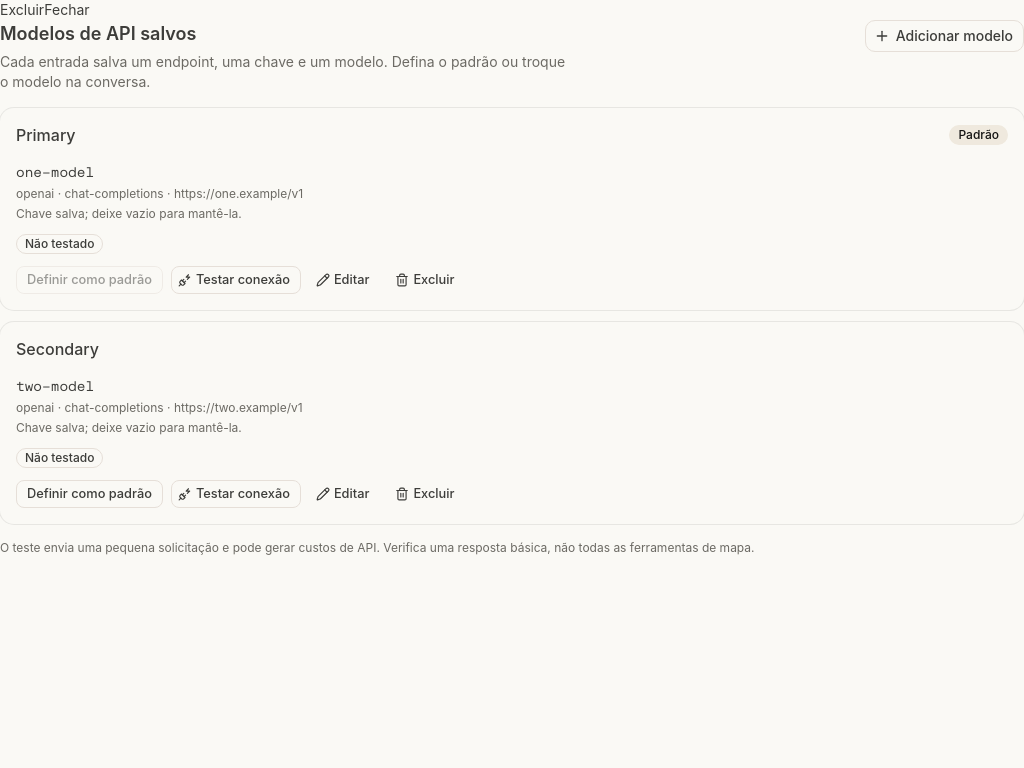
Test case: API profile settings › labels the delete-dialog close action in pt-BR
The image size is (1024, 768).
Click the button "Excluir" below "https://two.example/v1" at [427, 494], box top-left (388, 480), bottom-right (466, 508)
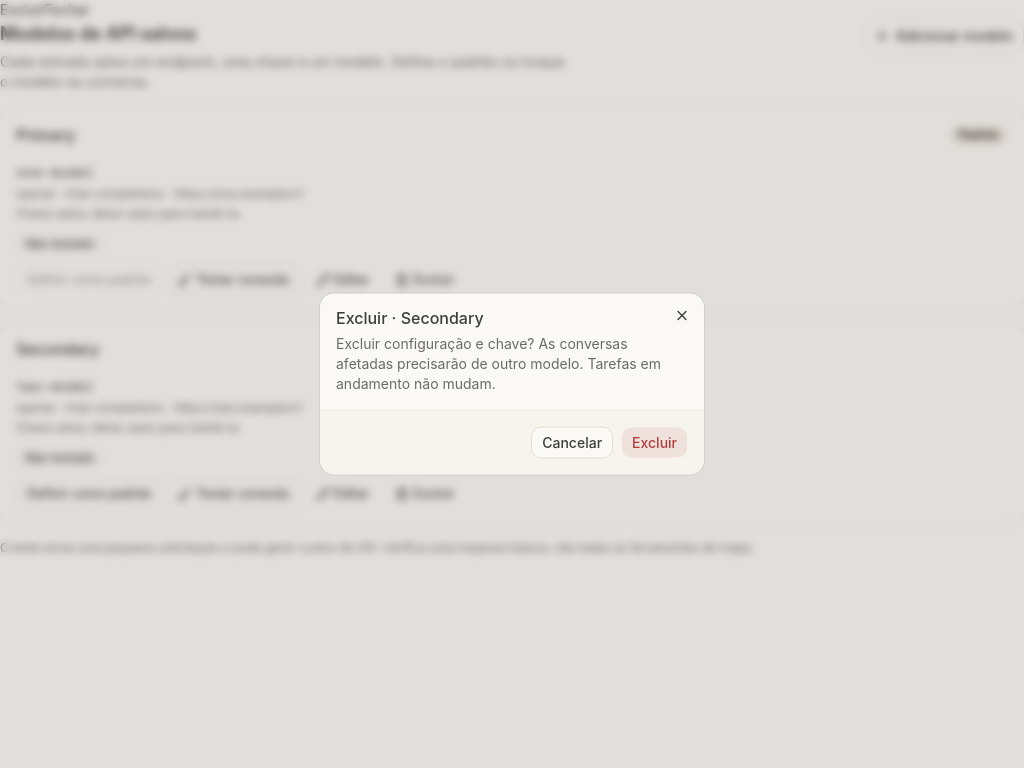
Click the button named "Fechar" at [682, 316], box top-left (668, 302), bottom-right (696, 330)
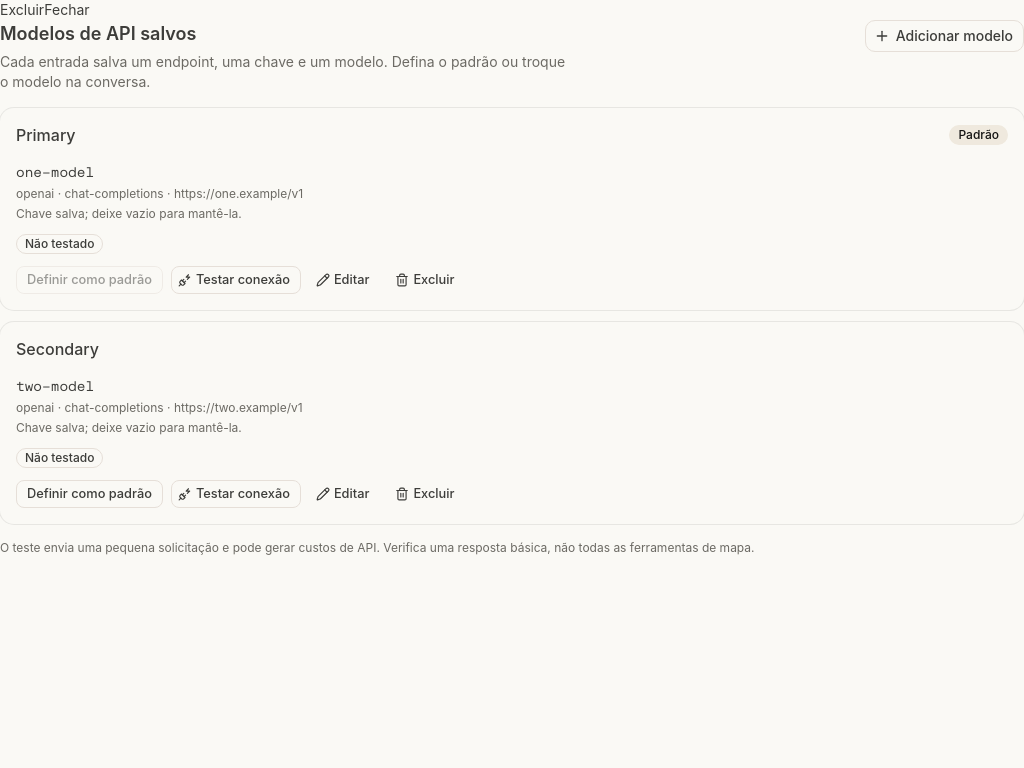
Now the dialog is gone
